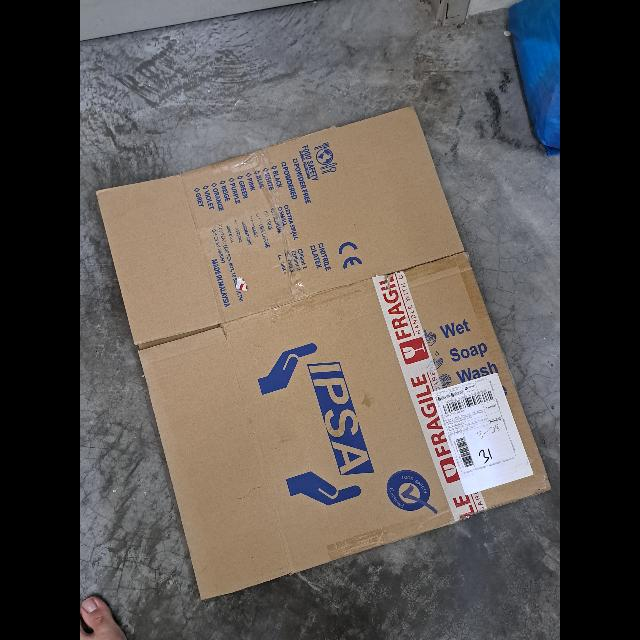papelão: (94, 106, 552, 594)
sacola plástica: (506, 0, 560, 154)
